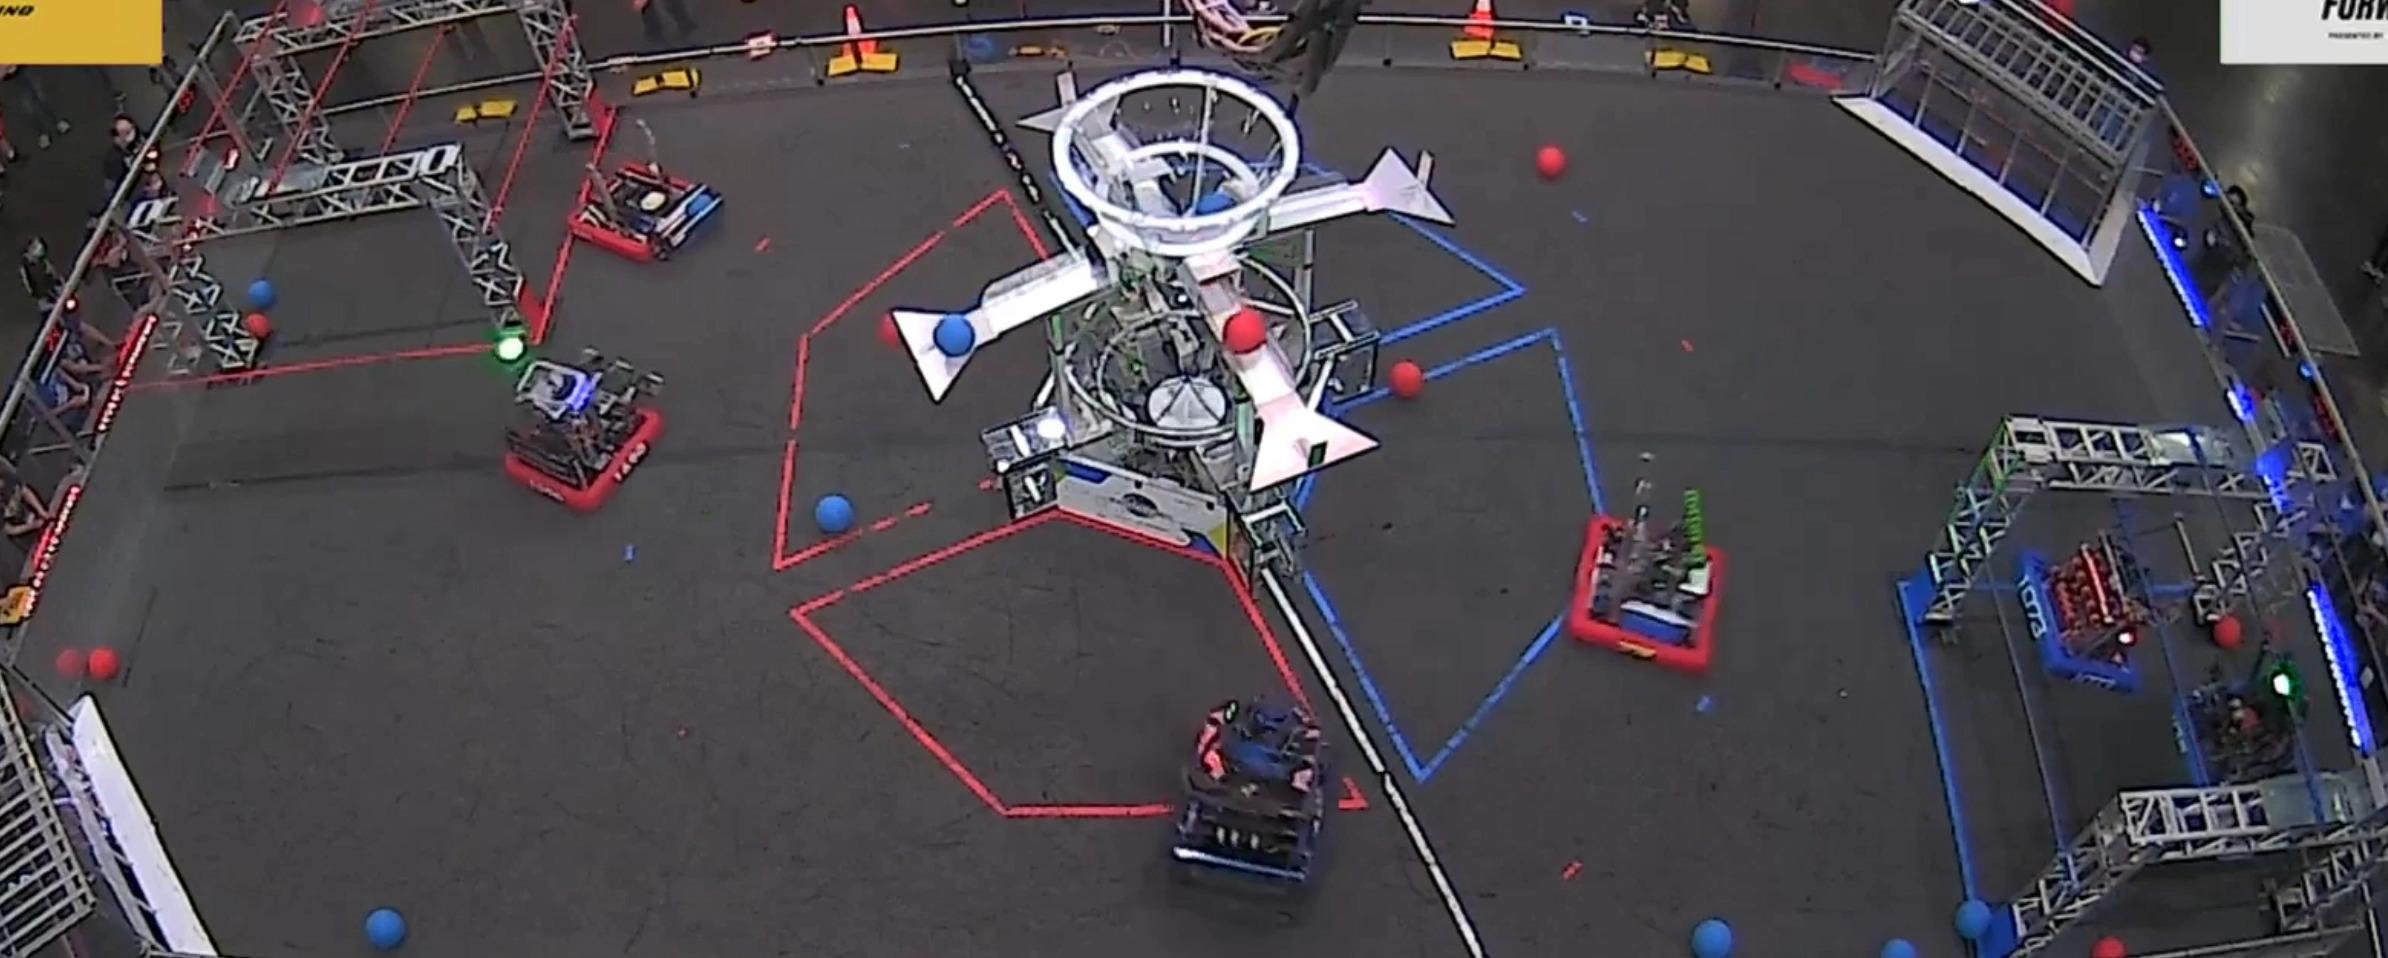Robots: (1167, 691, 1328, 893), (1570, 465, 1716, 666), (500, 344, 666, 509), (2021, 535, 2152, 693), (2170, 655, 2323, 781), (574, 152, 725, 260)
